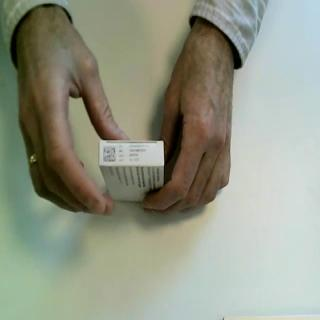oxycontin5mg: (98, 138, 166, 207)
